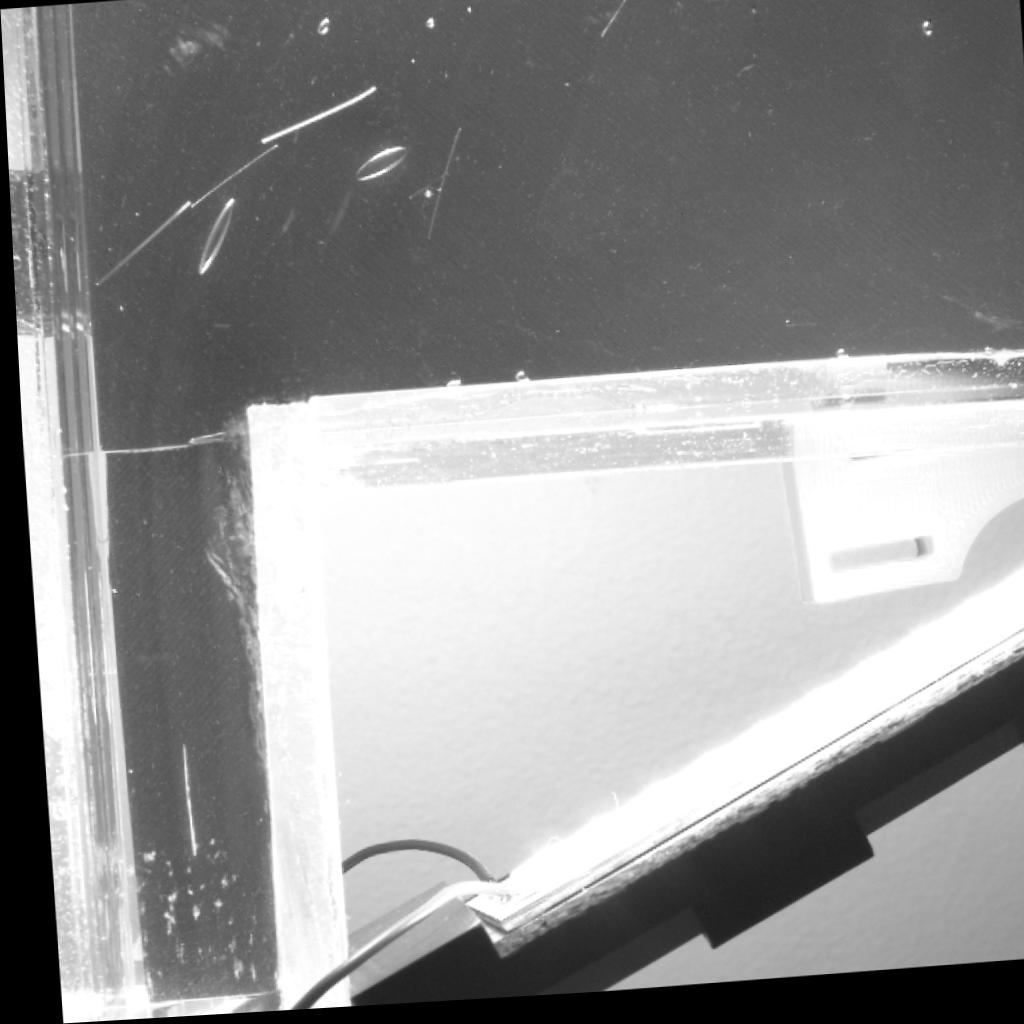Fiber: (87, 199, 189, 293), (257, 84, 378, 150), (183, 143, 278, 214), (415, 130, 461, 248), (592, 0, 634, 49), (171, 744, 188, 861)
